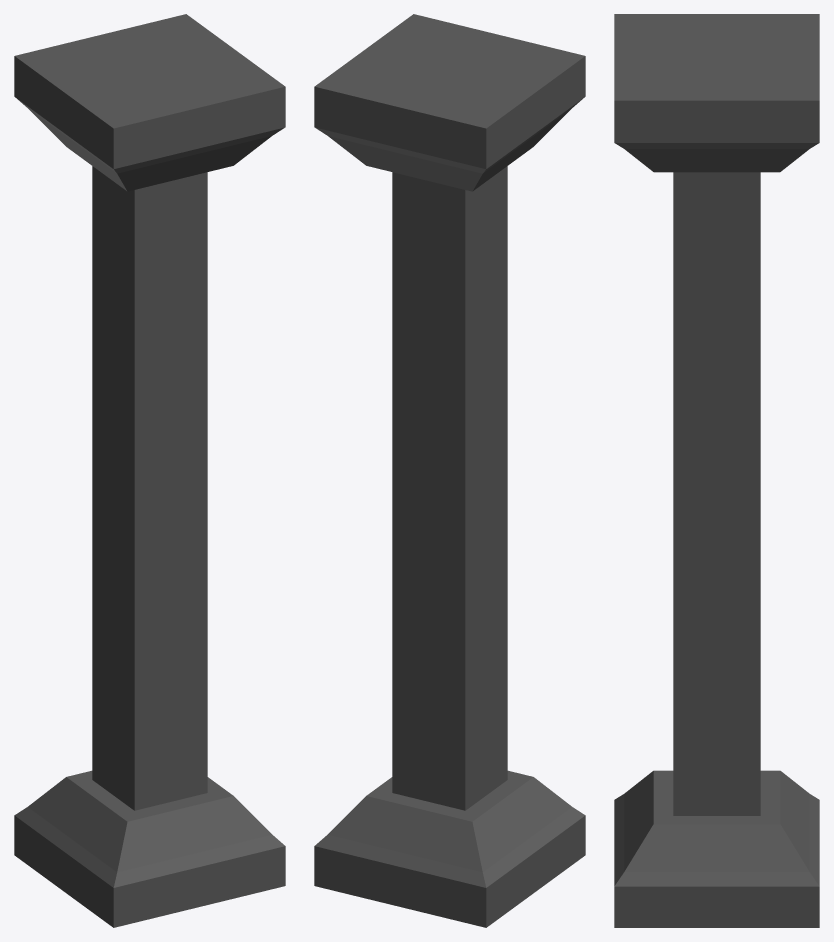
The model's file is Pillar_A0.fbx.
3 renders of one model, left to right at view 1: azimuth 30°, elevation 25°; view 2: azimuth 150°, elevation 25°; view 3: azimuth 270°, elevation 25°, orthographic. The views are drawn at different scales.
Parts seen in each view (by area): view 1: Pillar A0; view 2: Pillar A0; view 3: Pillar A0.
Part boxes in pixels (<box>): Pillar A0: <box>14,14,285,927</box>; Pillar A0: <box>314,14,585,927</box>; Pillar A0: <box>614,14,819,927</box>.
Size of the model in its own units: 90 by 400 by 90.
